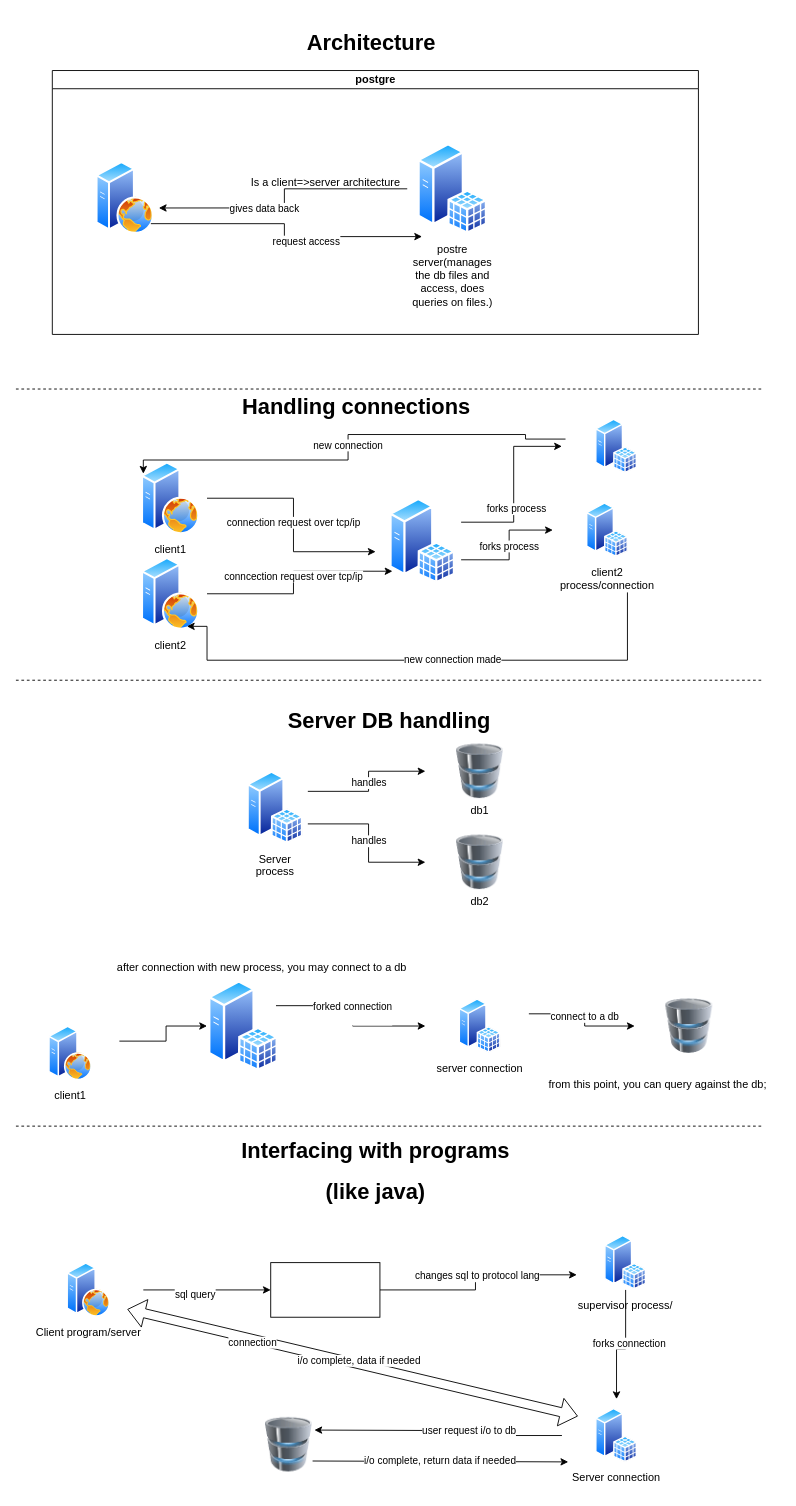
Some shapes in this 796 by 1506 pixel diagram are drawn without their labels. The centre of each missing label's shape, as x and y in pixels:
client program (text-based, web server etc..): the point at 124,197
database: the point at 688,1025
db: the point at 288,1444
new process with client1 connection: the point at 616,446
server(supervisor process, always running): the point at 422,540
supervisor process/server: the point at 243,1025
uses db driver for sql query: the point at 325,1289
